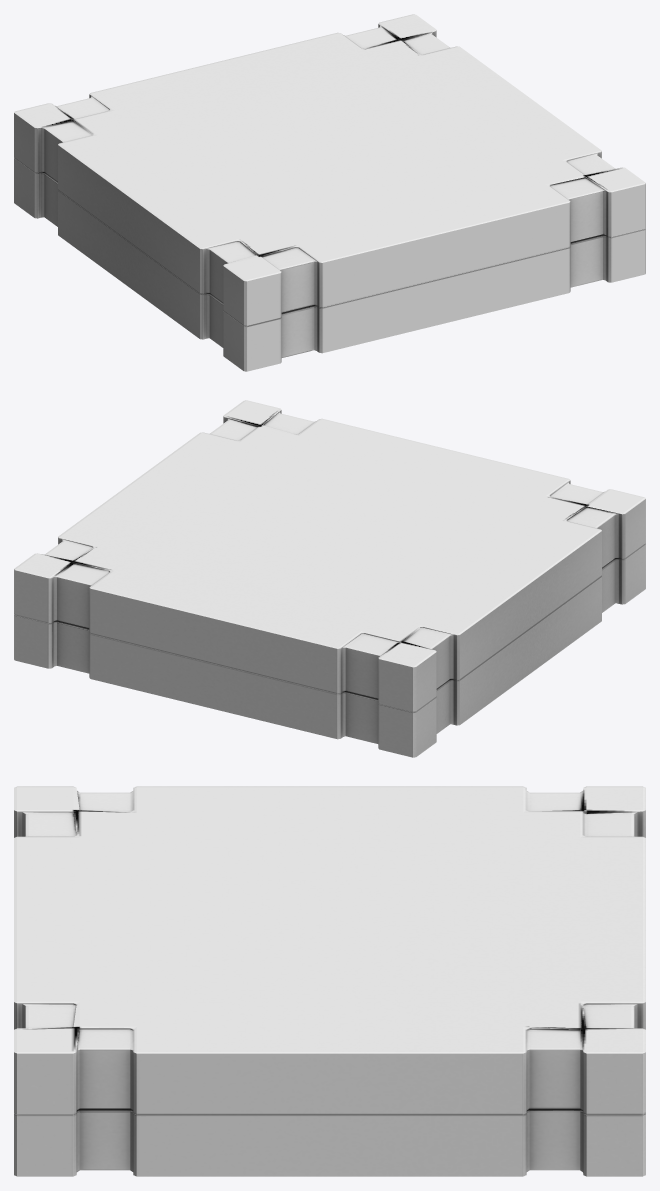
Rendered from platform_02.fbx.
3 renders of one model, top to bottom at view 1: azimuth 30°, elevation 25°; view 2: azimuth 150°, elevation 25°; view 3: azimuth 270°, elevation 25°, orthographic. The views are drawn at different scales.
Visible parts, largest first — view 1: Cube.006; view 2: Cube.006; view 3: Cube.006.
Boxes of the visible parts, x1,y1,x2,y2 form: Cube.006: (14,14,645,371); Cube.006: (14,400,645,757); Cube.006: (14,786,645,1176).
Size of the model in its own units: 200 by 43.15 by 200.
